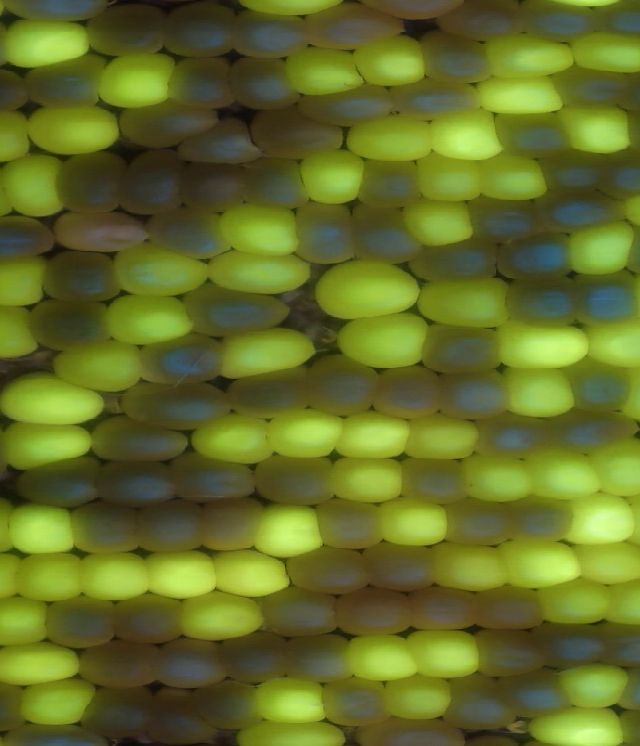fluorescent: (312, 255, 429, 328), (208, 321, 323, 387), (107, 238, 218, 302), (334, 308, 433, 376), (0, 369, 112, 429), (492, 311, 596, 375), (213, 196, 311, 263), (19, 102, 134, 159), (87, 47, 183, 115), (0, 11, 99, 76), (202, 245, 321, 298), (337, 109, 442, 169), (47, 336, 153, 394), (0, 414, 101, 474), (412, 274, 518, 331), (98, 288, 199, 347), (420, 536, 518, 596), (330, 405, 426, 465), (456, 449, 544, 514), (492, 535, 593, 591), (291, 143, 372, 212), (13, 671, 106, 731), (176, 586, 272, 644), (520, 442, 608, 505), (498, 359, 586, 422), (186, 411, 282, 468), (282, 43, 373, 103), (550, 95, 637, 157), (401, 623, 488, 685), (469, 69, 572, 121), (423, 103, 508, 166), (260, 405, 352, 463), (0, 496, 82, 561), (136, 545, 226, 604), (250, 497, 330, 563), (208, 543, 299, 601), (371, 666, 460, 725), (370, 491, 456, 552), (0, 147, 68, 224), (333, 626, 424, 683), (531, 573, 626, 627), (564, 216, 640, 283), (480, 31, 581, 81), (321, 452, 411, 508), (73, 545, 158, 604), (352, 31, 432, 92), (402, 408, 484, 467), (393, 194, 480, 249), (521, 703, 631, 746), (0, 638, 87, 692), (8, 548, 88, 606), (559, 491, 640, 548), (251, 672, 336, 726), (480, 146, 554, 206), (557, 659, 639, 712), (417, 148, 489, 207), (584, 432, 640, 503), (229, 714, 353, 746), (567, 26, 640, 76), (567, 538, 640, 588), (0, 256, 61, 312), (586, 312, 640, 373), (0, 591, 53, 646), (0, 298, 42, 363), (593, 575, 640, 629), (0, 107, 37, 166)
nonfluorescent: (177, 279, 301, 342), (119, 375, 243, 434), (112, 98, 227, 159), (220, 358, 322, 425), (299, 348, 386, 421), (248, 101, 350, 163), (346, 197, 429, 273), (22, 292, 117, 358), (70, 677, 166, 742), (130, 326, 229, 389), (147, 202, 240, 269), (50, 146, 132, 221), (36, 244, 130, 309), (86, 411, 202, 463), (300, 3, 411, 57), (413, 316, 509, 378), (404, 229, 503, 289), (286, 196, 364, 272), (242, 452, 342, 511), (469, 406, 567, 465), (80, 1, 173, 63), (113, 142, 189, 217), (154, 1, 244, 64), (51, 204, 153, 259), (487, 106, 580, 166), (14, 453, 106, 513), (24, 49, 110, 113), (79, 635, 172, 694), (499, 269, 586, 332), (226, 7, 317, 67), (187, 672, 271, 737), (367, 359, 449, 425), (311, 491, 393, 557), (63, 497, 146, 562), (350, 153, 434, 217), (144, 682, 228, 746), (494, 226, 580, 288), (444, 492, 527, 556), (88, 458, 186, 512), (278, 623, 359, 688), (174, 115, 268, 171), (168, 451, 262, 507), (387, 73, 490, 124), (251, 583, 346, 638), (161, 47, 240, 113), (440, 669, 520, 734), (460, 189, 548, 248), (468, 619, 557, 677), (236, 155, 319, 217), (194, 492, 273, 557), (433, 365, 518, 425), (389, 449, 474, 509), (328, 583, 419, 639), (403, 578, 487, 638), (557, 405, 640, 465), (214, 624, 293, 687), (536, 186, 633, 237), (279, 543, 374, 595), (42, 591, 119, 655), (173, 155, 252, 217), (111, 586, 191, 647), (316, 673, 400, 731), (132, 495, 209, 558), (548, 62, 633, 119), (416, 27, 498, 86), (499, 664, 580, 723), (569, 264, 640, 331), (359, 539, 441, 596), (300, 83, 401, 129), (428, 1, 533, 45), (226, 51, 303, 111), (561, 355, 639, 414), (531, 616, 612, 672), (151, 637, 233, 692), (507, 489, 579, 549), (467, 585, 550, 634), (518, 1, 609, 44), (351, 713, 468, 746), (539, 142, 607, 197), (0, 211, 61, 268), (0, 1, 109, 31), (589, 146, 640, 204), (592, 617, 640, 668), (588, 1, 640, 46), (0, 59, 37, 118), (0, 676, 33, 737), (607, 702, 640, 746)
